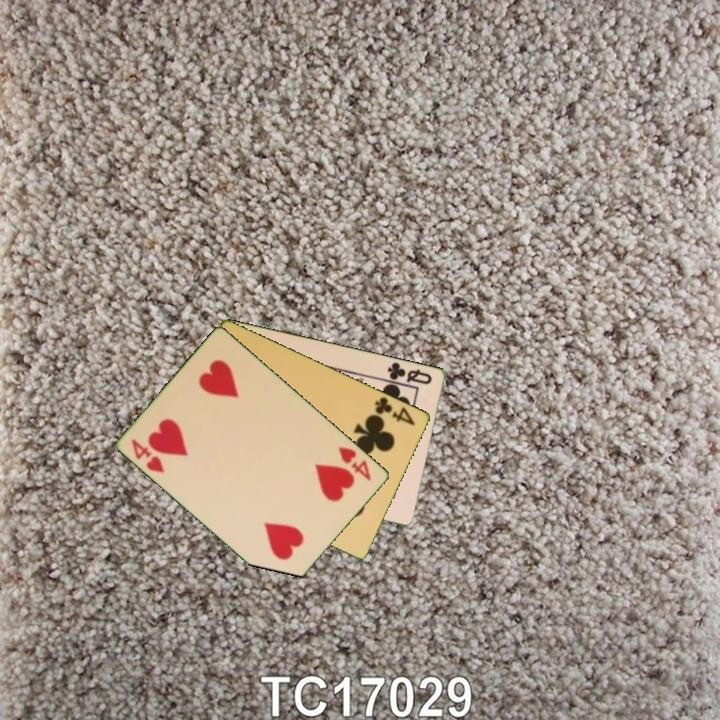4c: (371, 393, 418, 428)
4h: (128, 435, 168, 476), (335, 443, 374, 484)
Qc: (384, 358, 435, 387)
